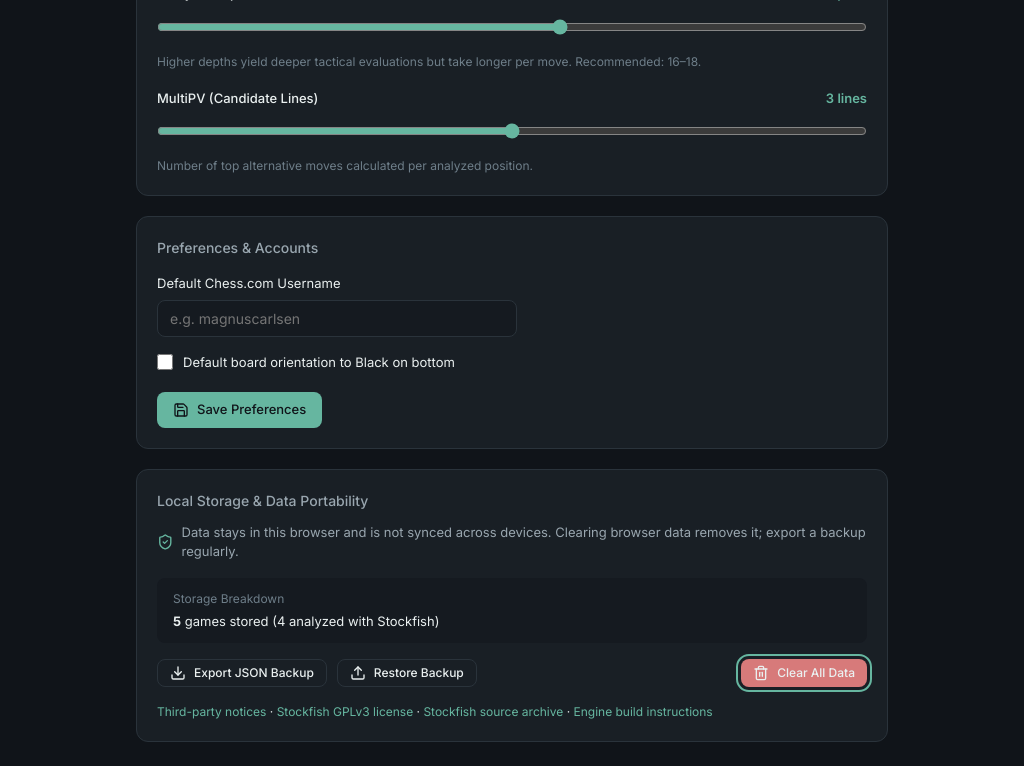
Test: Settings recovery and operation safety › closes the clear dialog with Escape and restores focus without deleting data
(page scrolled)
Click the button "Clear All Data" at x=804, y=673, box [741,659,867,687]
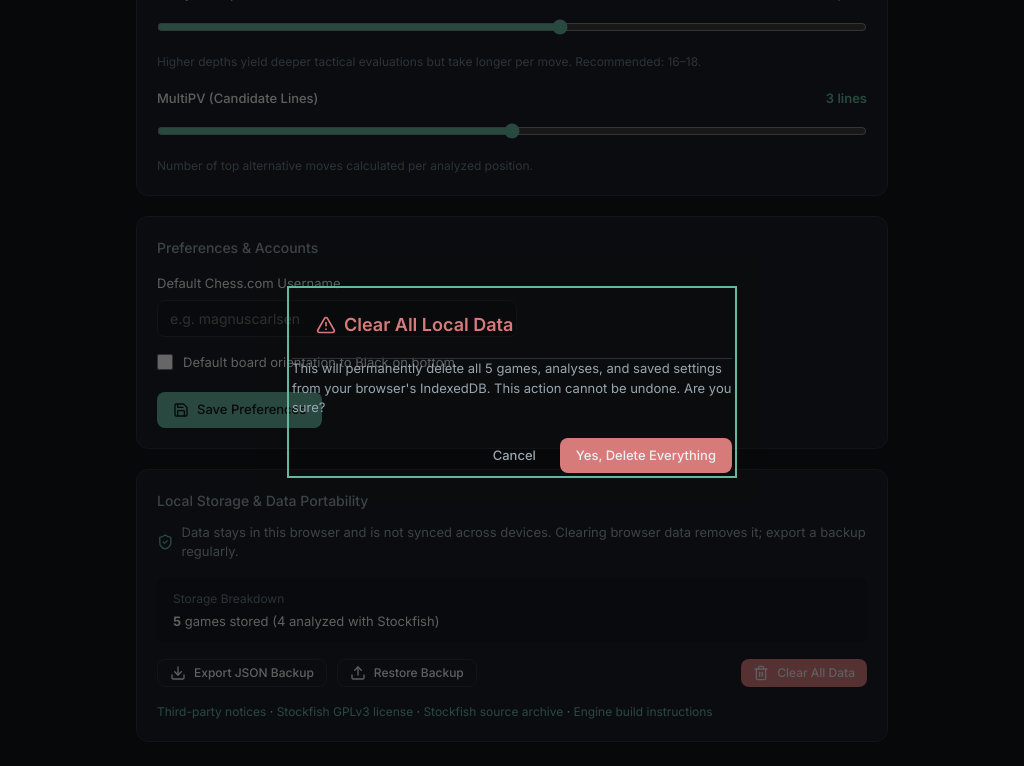
Press Escape in the dialog, box [292,291,732,473]
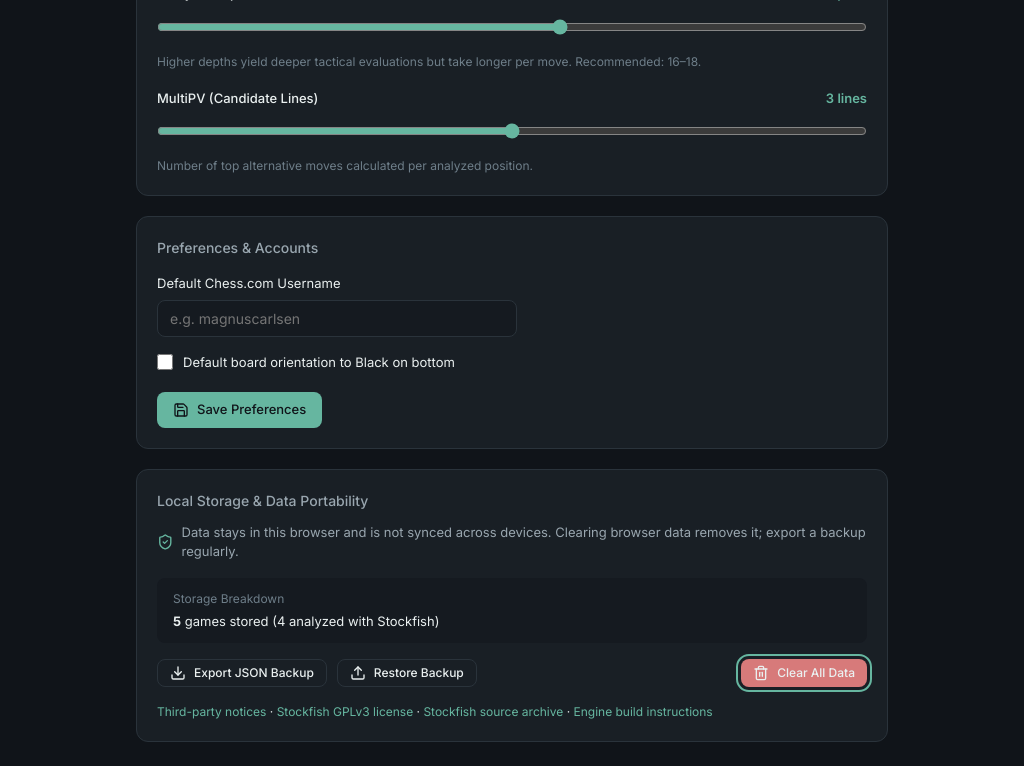
Result: the dialog is gone
